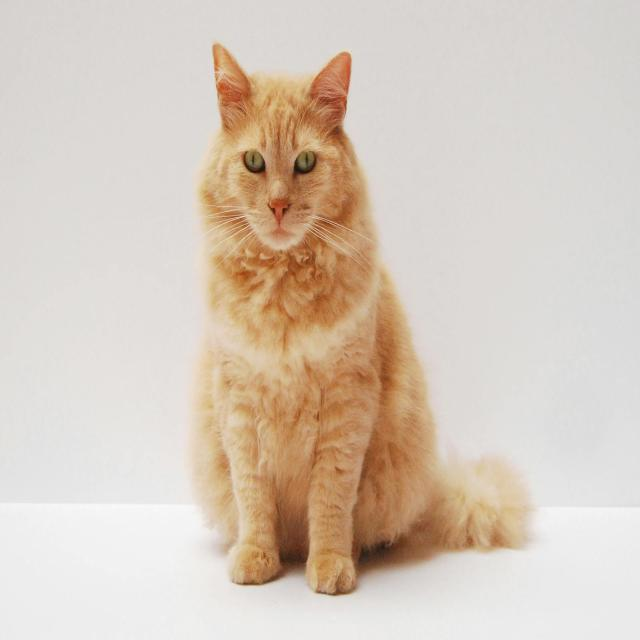Cat: (187, 41, 536, 596)
